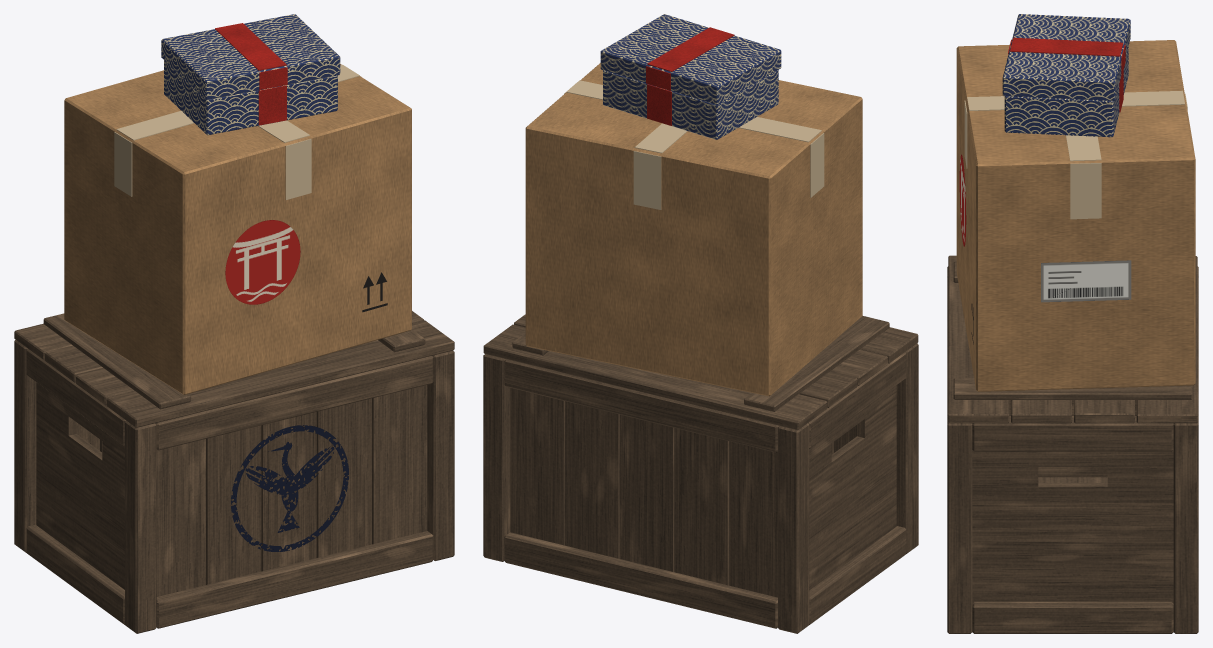
File: LAY_06S.fbx
3 renders of one model, left to right at view 1: azimuth 30°, elevation 25°; view 2: azimuth 150°, elevation 25°; view 3: azimuth 270°, elevation 25°, orthographic. The views are drawn at different scales.
Parts seen in each view (by area): view 1: LAY_06A_Caja_Madera, LAY_06B_Carton_Cerrado, LAY_06C_Regalo_Seigaiha; view 2: LAY_06A_Caja_Madera, LAY_06B_Carton_Cerrado, LAY_06C_Regalo_Seigaiha; view 3: LAY_06B_Carton_Cerrado, LAY_06A_Caja_Madera, LAY_06C_Regalo_Seigaiha.
Boxes of the visible parts, box(x1,y1,x2,y2) form: LAY_06A_Caja_Madera: box(14, 311, 454, 633); LAY_06B_Carton_Cerrado: box(64, 64, 411, 394); LAY_06C_Regalo_Seigaiha: box(161, 14, 340, 135); LAY_06A_Caja_Madera: box(483, 314, 918, 633); LAY_06B_Carton_Cerrado: box(525, 63, 862, 396); LAY_06C_Regalo_Seigaiha: box(600, 14, 781, 139); LAY_06B_Carton_Cerrado: box(956, 40, 1195, 391); LAY_06A_Caja_Madera: box(947, 255, 1198, 633); LAY_06C_Regalo_Seigaiha: box(1002, 14, 1130, 137).
Bounding box in the file's own units: 0.6 × 0.9039 × 0.4.
